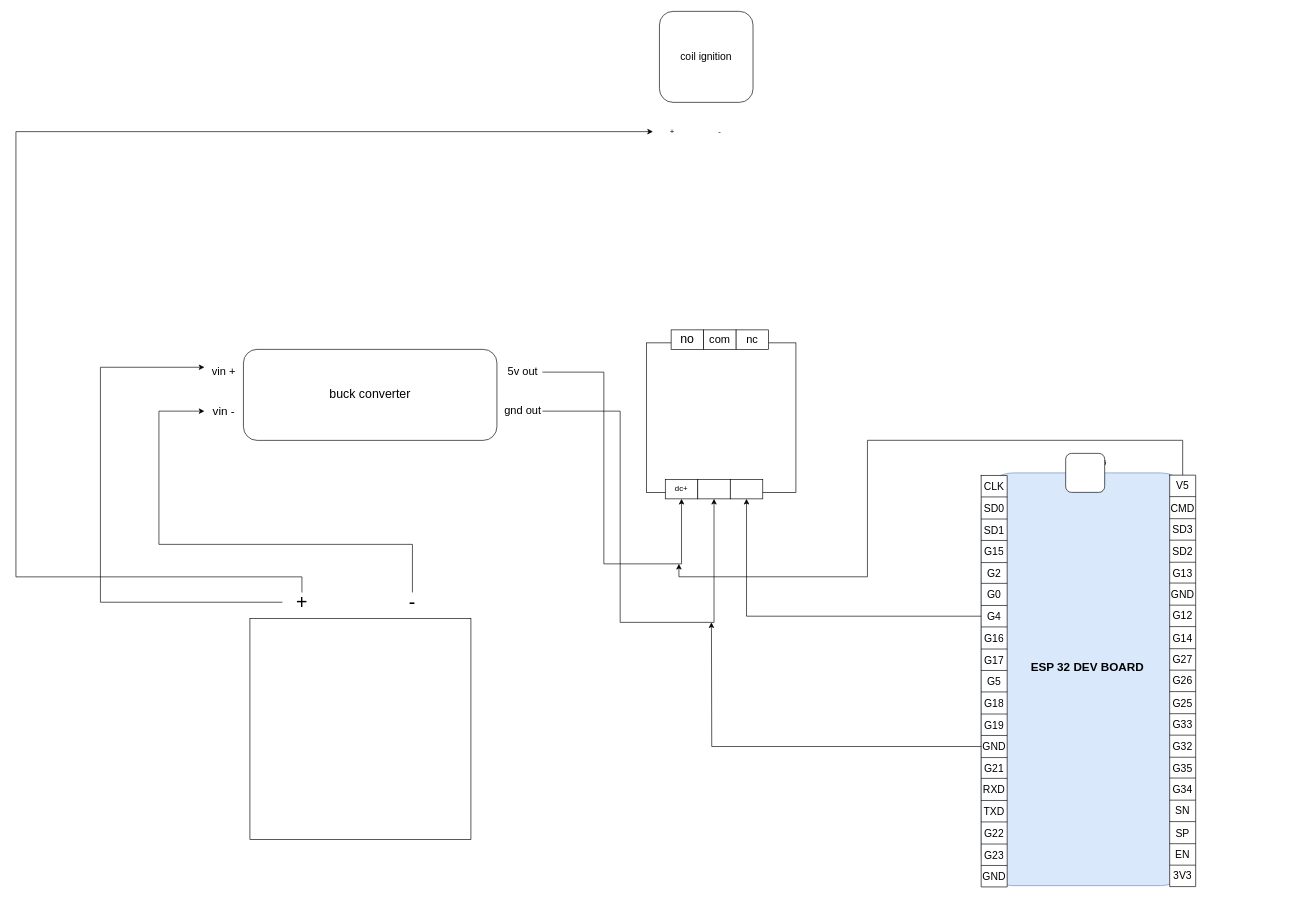
This 1305x898 diagram has some shape labels left out. The shapes that lost their labels are listed below. From the top down, each one's box as (x1, y1, x2, y2) in pixels, then its label:
(697, 479, 730, 499): dc-
(730, 479, 763, 499): in
(249, 618, 471, 839): motorcycle batt 12v
